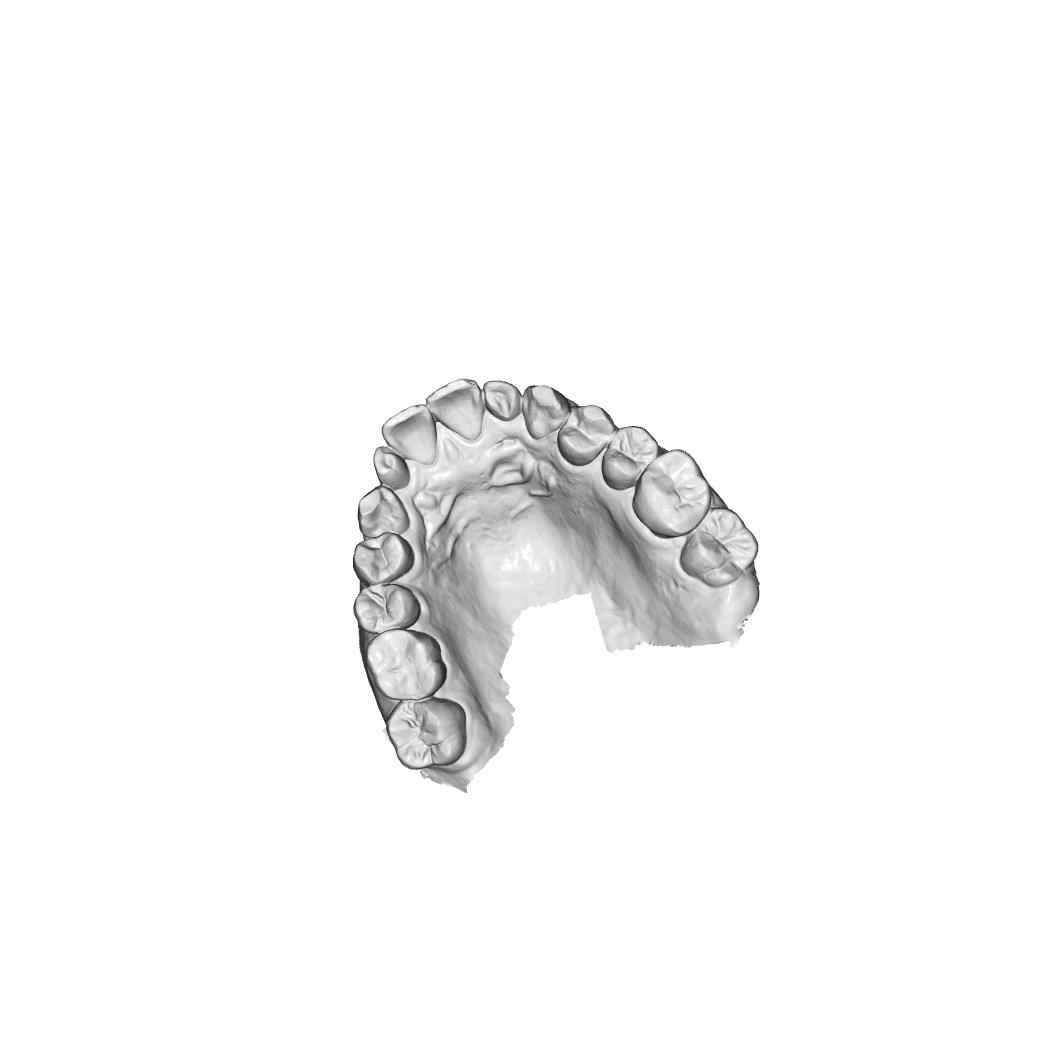canine: (355, 484, 411, 539), (521, 383, 571, 441)
incisor: (425, 376, 484, 442), (380, 403, 438, 467), (482, 378, 526, 423), (372, 446, 411, 490)
molar: (632, 448, 713, 538), (678, 505, 760, 589), (363, 627, 449, 702), (384, 698, 467, 772)
premolar: (599, 425, 660, 491), (556, 403, 618, 467), (350, 531, 416, 587), (351, 583, 423, 634)
